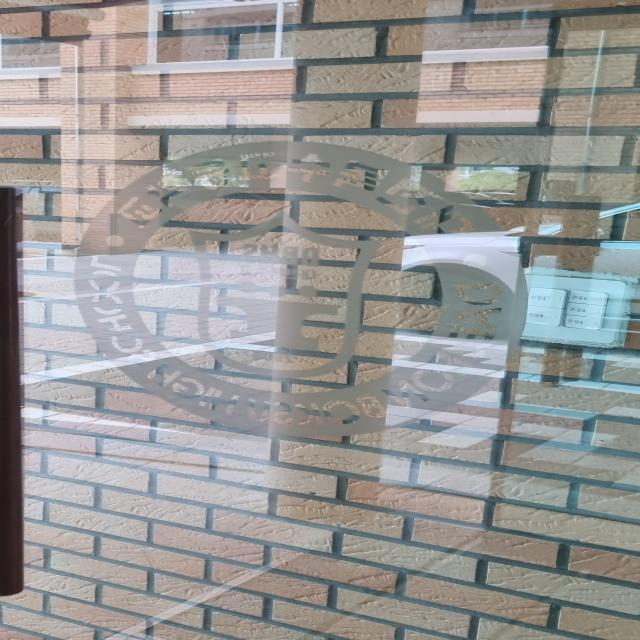logo: (85, 137, 538, 449)
